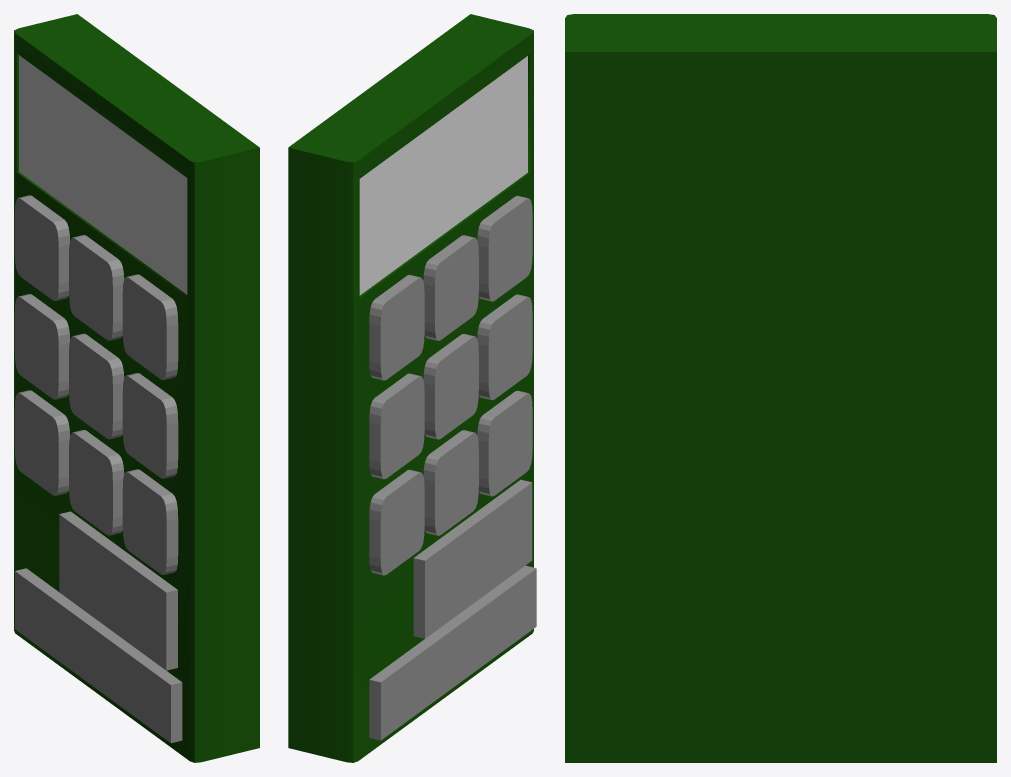
Rendered from Keypad.FBX.
3 views of the same model, side by side, from view 1: azimuth 30°, elevation 25°; view 2: azimuth 150°, elevation 25°; view 3: azimuth 270°, elevation 25° (orthographic). The views are drawn at different scales.
Visible parts, largest first — view 1: Box001, Box015, Box013, Box012, Box017, Box020, Box023, Box003, Box021, Box018, Box016, Box022 (+1 smaller); view 2: Box001, Box015, Box013, Box012, Box021, Box018, Box003, Box019, Box016, Box022, Box023, Box020 (+1 smaller); view 3: Box001.
Part boxes in pixels (x1,y1,x2,y2): Box001: (14, 14, 259, 762); Box015: (19, 55, 187, 294); Box013: (15, 568, 182, 743); Box012: (59, 511, 177, 670); Box017: (122, 274, 178, 379); Box020: (122, 373, 178, 478); Box023: (122, 469, 178, 574); Box003: (14, 195, 69, 300); Box021: (14, 390, 69, 495); Box018: (14, 294, 69, 399); Box016: (69, 235, 124, 340); Box022: (69, 430, 124, 535); Box001: (288, 14, 533, 762); Box015: (359, 56, 527, 295); Box013: (369, 565, 536, 740); Box012: (413, 479, 532, 638); Box021: (369, 469, 424, 575); Box018: (369, 373, 424, 479); Box003: (369, 275, 424, 380); Box019: (423, 334, 478, 439); Box016: (423, 235, 478, 340); Box022: (423, 430, 478, 535); Box023: (477, 390, 532, 496); Box020: (477, 294, 532, 400); Box001: (565, 14, 996, 762).
Size of the model in its own units: 10.5 by 77.7 by 42.78.
